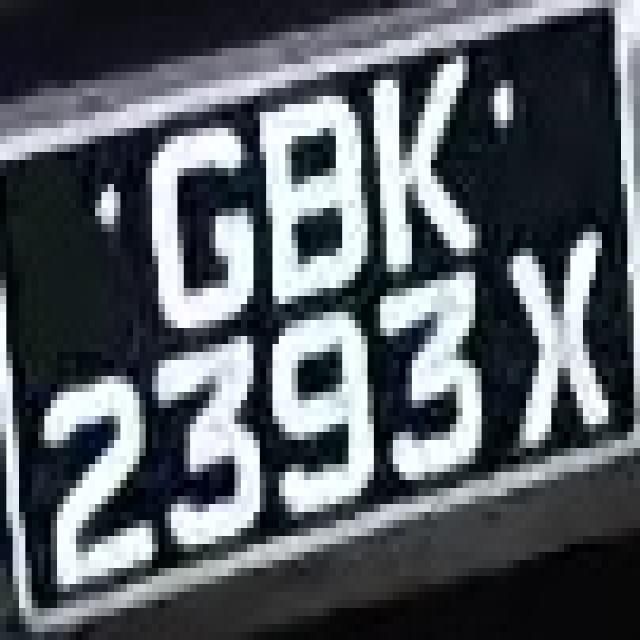2: (25, 376, 171, 592)
3: (133, 312, 266, 544), (368, 264, 494, 480)
9: (273, 312, 380, 512)
B: (241, 80, 374, 320)
G: (127, 104, 266, 344)
K: (367, 40, 469, 280)
X: (488, 216, 615, 448)
